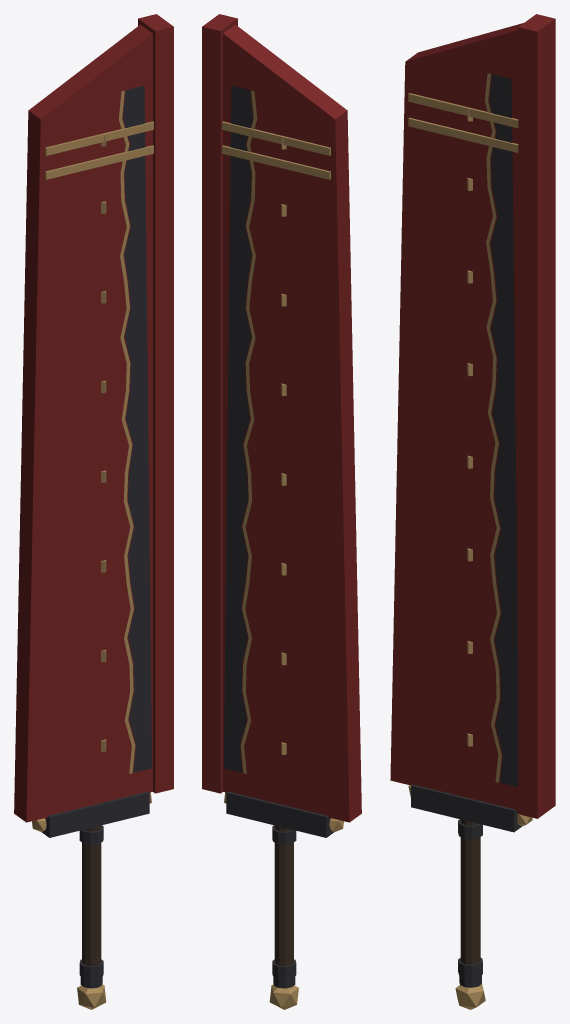
File: red_greatsword.glb
3 renders of one model, left to right at view 1: azimuth 30°, elevation 25°; view 2: azimuth 150°, elevation 25°; view 3: azimuth 330°, elevation 25°, orthographic. The views are drawn at different scales.
Parts seen in each view (by area): view 1: red_greatsword; view 2: red_greatsword; view 3: red_greatsword.
Boxes of the visible parts, box(x1,y1,x2,y2) form: red_greatsword: box(14, 14, 173, 1009); red_greatsword: box(202, 14, 361, 1009); red_greatsword: box(390, 14, 555, 1009).
Bounding box in the file's own units: 1.01 × 6.5 × 0.21.
